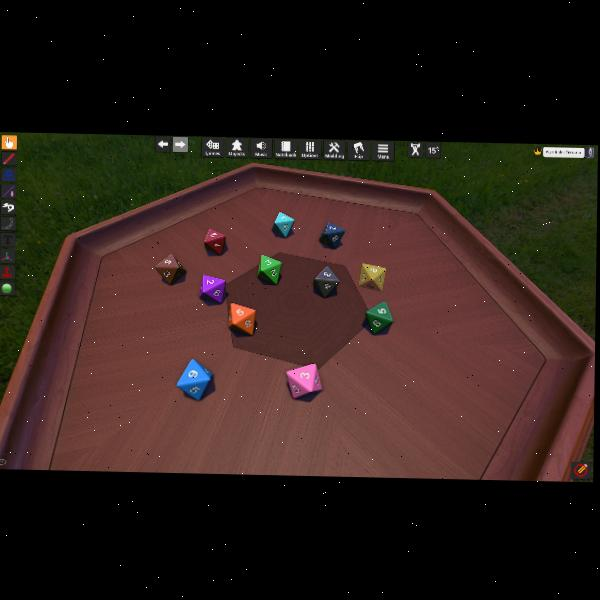d8: (177, 357, 214, 400), (285, 361, 320, 398), (156, 253, 186, 285), (365, 300, 394, 333), (228, 302, 255, 335), (357, 263, 387, 290), (314, 266, 340, 297), (201, 274, 227, 302), (258, 254, 282, 284), (319, 222, 344, 249), (204, 229, 227, 255), (273, 210, 295, 237)
